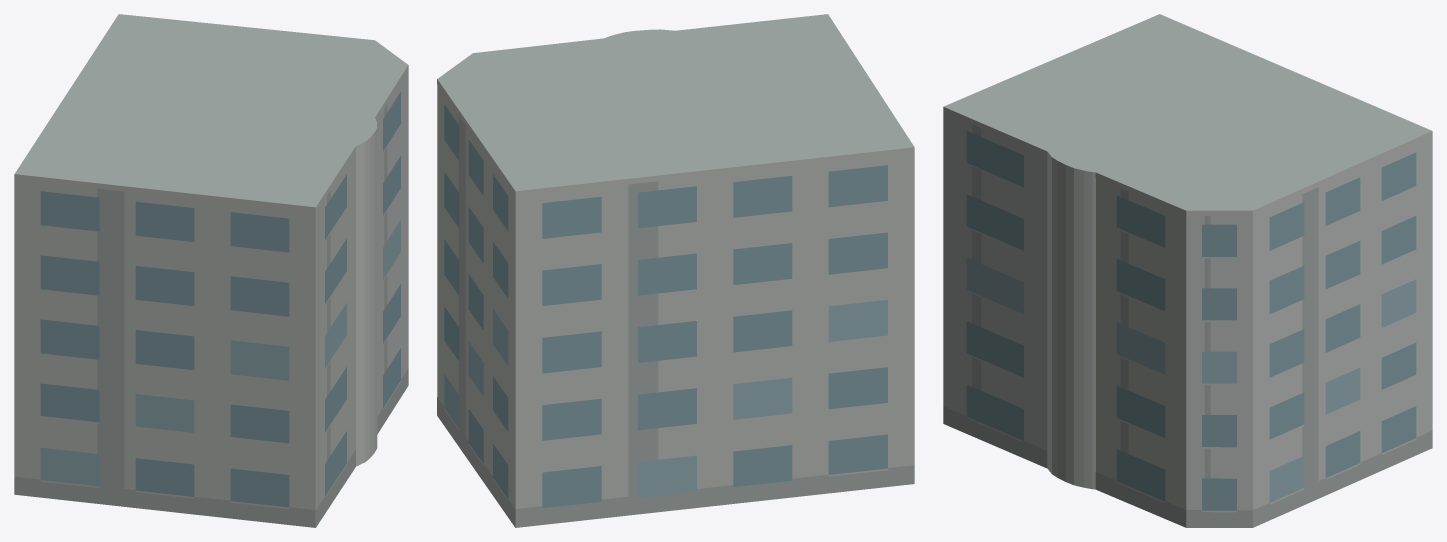
The model's file is survey-upis-32892524.glb.
3 views of the same model, side by side, from view 1: azimuth 30°, elevation 25°; view 2: azimuth 150°, elevation 25°; view 3: azimuth 270°, elevation 25° (orthographic). The views are drawn at different scales.
Parts seen in each view (by area): view 1: survey-upis-32892524.tmp; view 2: survey-upis-32892524.tmp; view 3: survey-upis-32892524.tmp.
Boxes of the visible parts, x1,y1,x2,y2 form: survey-upis-32892524.tmp: (14,14,408,527); survey-upis-32892524.tmp: (437,14,914,527); survey-upis-32892524.tmp: (943,14,1432,527).
Size of the model in its own units: 19.18 by 14.4 by 20.15.
